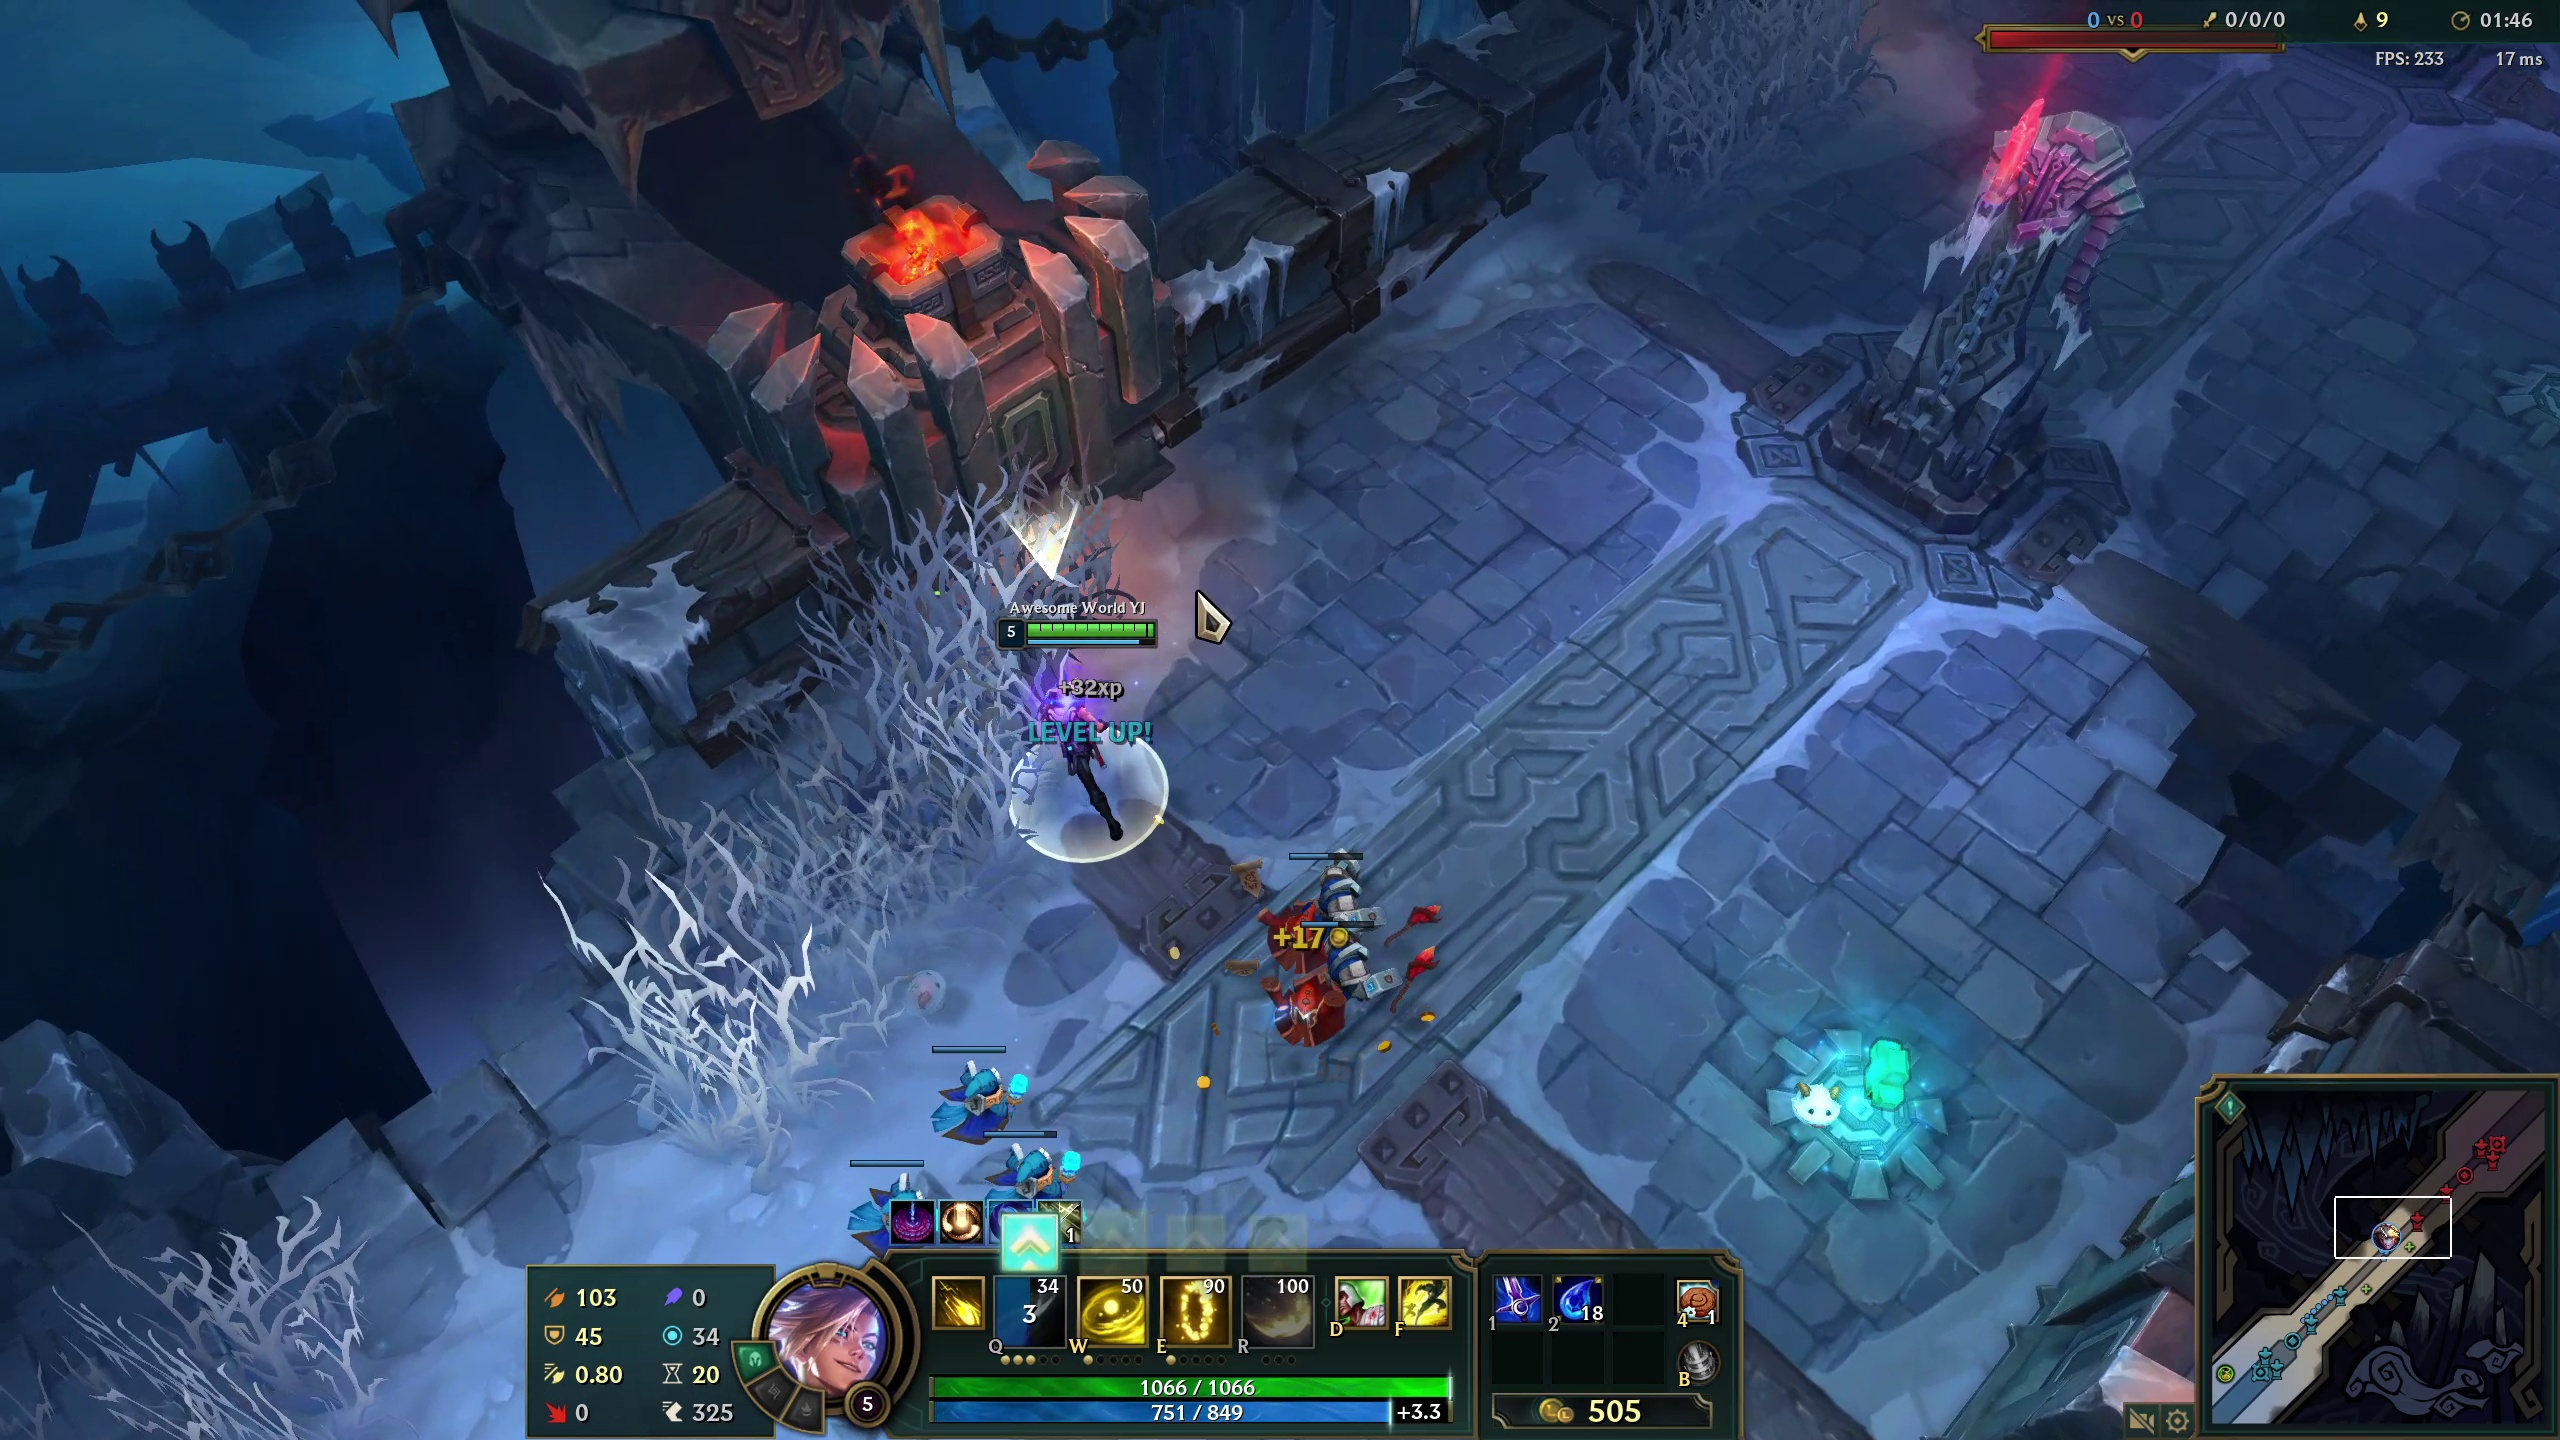EZ: (1011, 624, 1167, 851)
Glass: (774, 659, 972, 969), (67, 1264, 376, 1440), (1637, 21, 1816, 141)
MyMinion: (976, 1116, 1087, 1236), (1303, 907, 1414, 1027), (1289, 804, 1400, 921), (930, 1029, 1041, 1146), (832, 1129, 942, 1247)
Turret: (1915, 132, 2112, 557)
